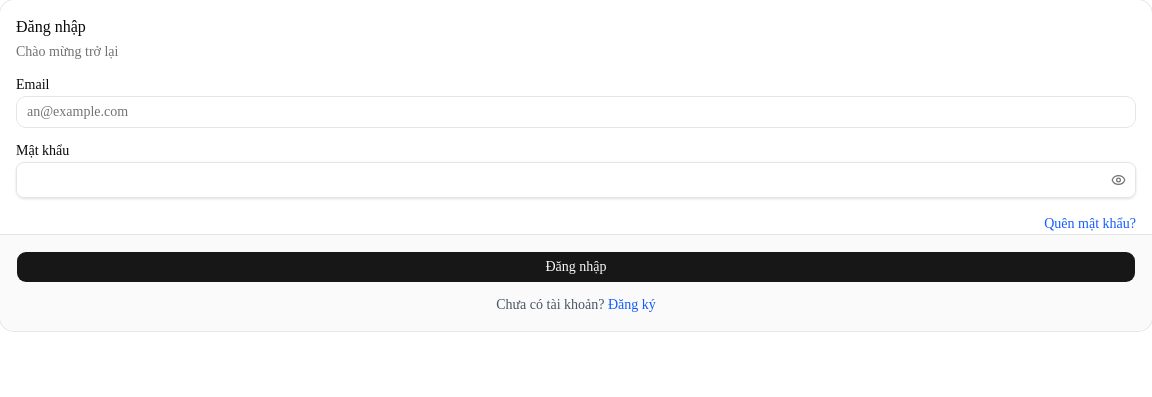
Test case: LoginPage › shows validation errors on empty submit
The width and height of the screenshot is (1152, 397).
What coordinates should you click on to do the following:
click the button "Đăng nhập"
I would click on:
 (576, 267)
Its box is [16,251,1136,283].
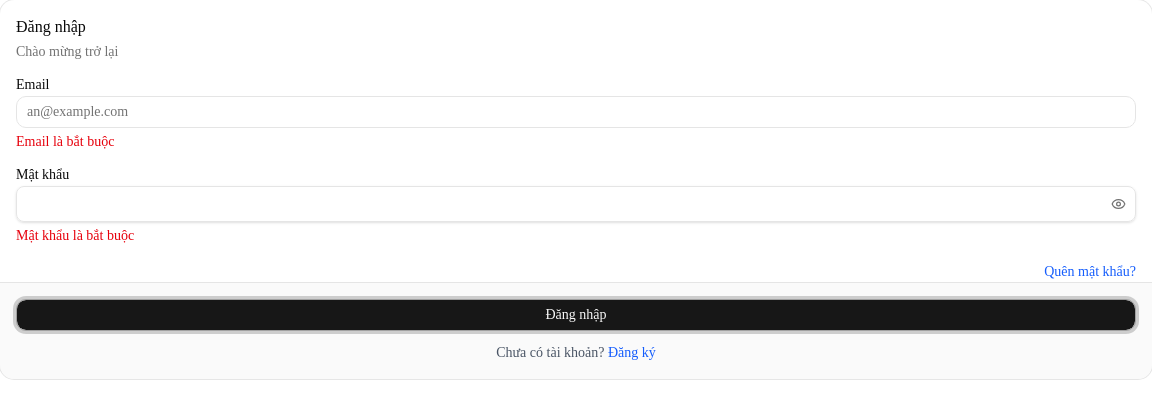
Expected: the text "Email là bắt buộc" is shown, [16,134,114,149]
Expected: the text "Mật khẩu là bắt buộc" is shown, [16,228,134,243]
